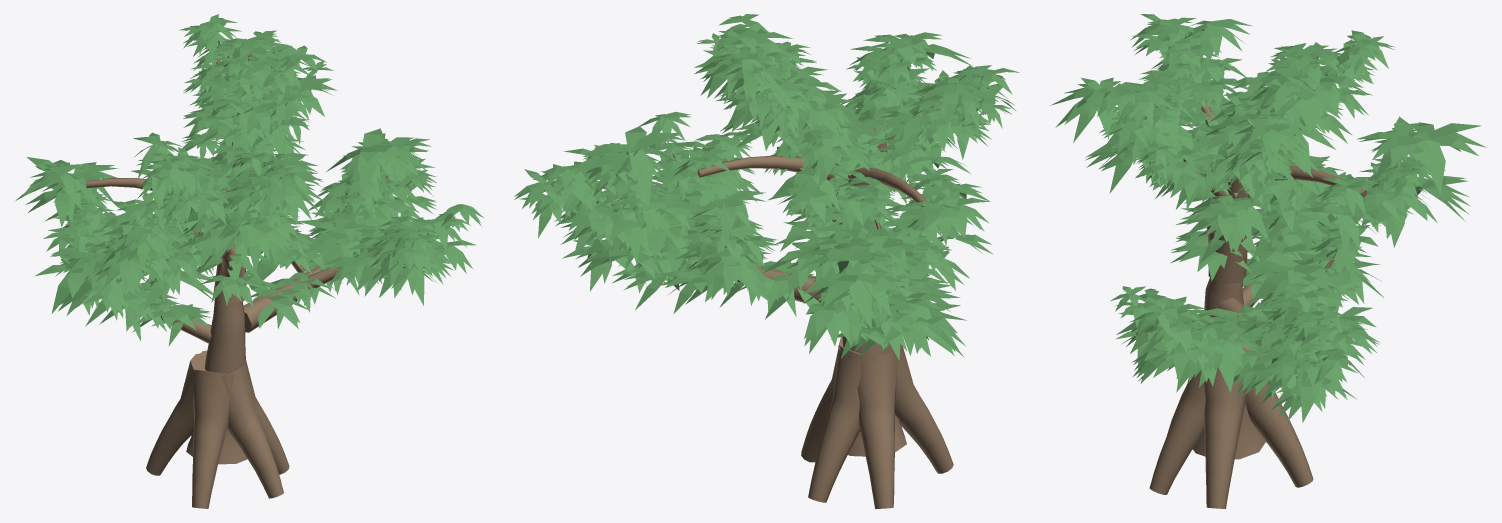
The model's file is island_tree_01.fbx.
The picture shows the model from 3 angles, left to right: view 1: azimuth 30°, elevation 25°; view 2: azimuth 150°, elevation 25°; view 3: azimuth 270°, elevation 25°; orthographic projection. The views are drawn at different scales.
Parts seen in each view (by area): view 1: island_tree_01_LOD0; view 2: island_tree_01_LOD0; view 3: island_tree_01_LOD0.
Part boxes in pixels (bbox=[...]): island_tree_01_LOD0: bbox=[14, 14, 483, 508]; island_tree_01_LOD0: bbox=[514, 14, 1019, 508]; island_tree_01_LOD0: bbox=[1050, 14, 1486, 508].
Size of what is drawn, in the model's own units: 14.3 by 13.91 by 11.78.
